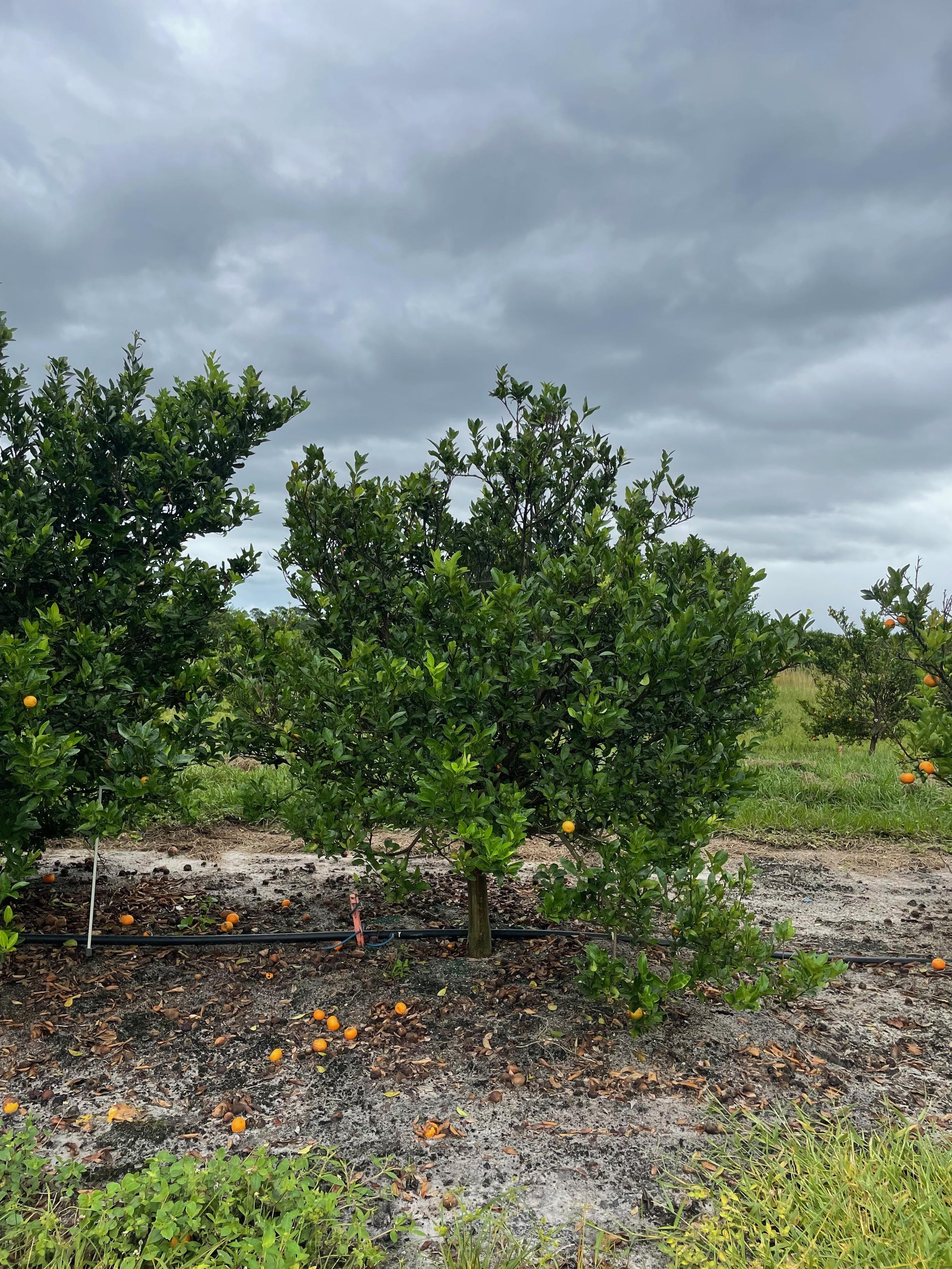fruit_on_ground: (626, 1002, 649, 1023), (922, 670, 942, 689), (917, 759, 937, 776), (560, 818, 577, 835), (898, 771, 915, 787), (22, 694, 38, 710), (138, 774, 153, 790), (896, 613, 910, 626), (883, 617, 896, 630)
fruit_on_tree: (2, 1093, 21, 1116), (420, 1119, 441, 1139), (228, 1115, 249, 1134), (324, 1014, 341, 1031), (930, 955, 948, 971), (510, 1071, 527, 1087), (268, 1047, 285, 1063), (310, 1037, 327, 1053), (224, 910, 242, 925), (117, 911, 135, 926), (343, 1025, 359, 1041), (393, 1000, 409, 1016), (505, 1060, 521, 1074), (219, 919, 235, 933), (311, 1007, 326, 1021), (41, 871, 56, 885), (166, 845, 180, 858), (280, 897, 292, 909), (299, 911, 312, 922), (141, 928, 154, 937)
